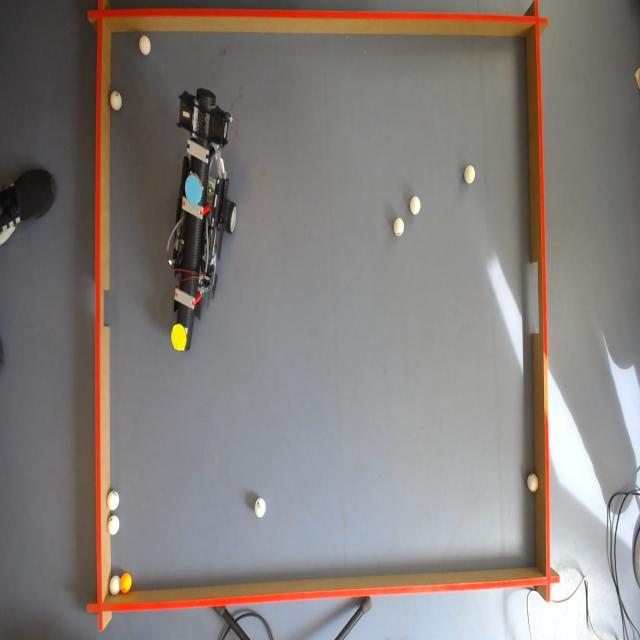orange: (120, 575, 135, 594)
robot: (171, 98, 233, 338)
robot-front: (171, 324, 186, 352)
robot-rear: (185, 174, 202, 206)
white: (106, 514, 121, 535), (255, 497, 268, 521), (110, 91, 124, 112), (106, 491, 120, 511), (138, 38, 151, 58), (109, 574, 120, 596), (528, 472, 540, 492), (395, 219, 407, 236), (411, 197, 422, 214), (466, 166, 477, 183)
